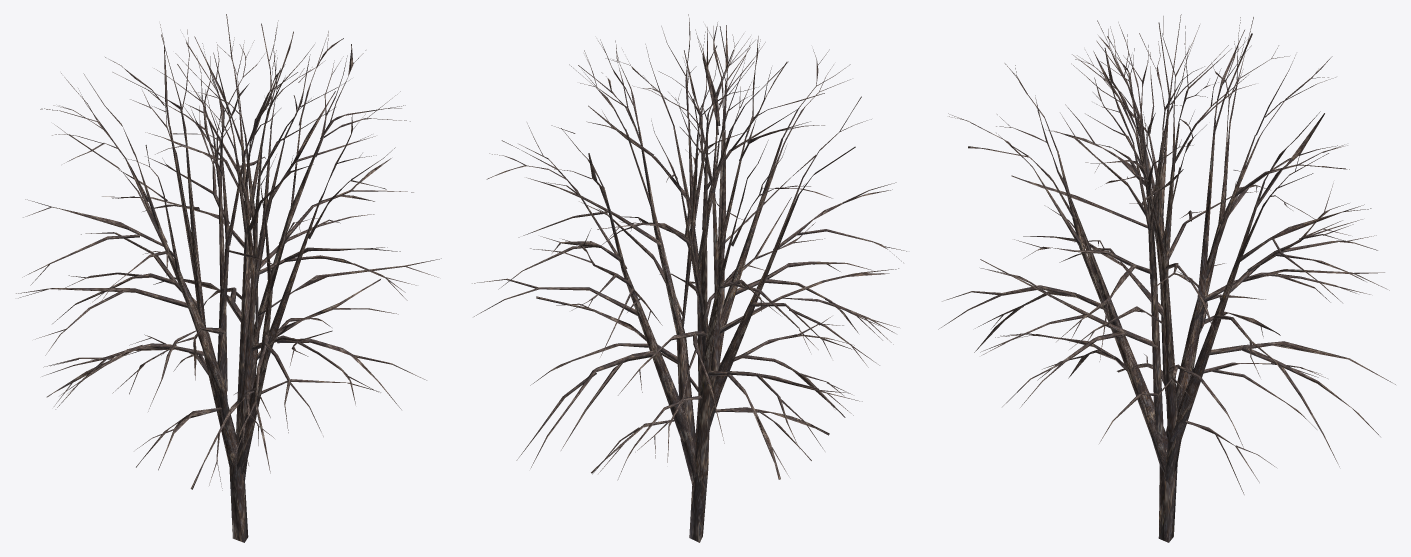
The model's file is tree4.fbx.
3 renders of one model, left to right at view 1: azimuth 30°, elevation 25°; view 2: azimuth 150°, elevation 25°; view 3: azimuth 270°, elevation 25°, orthographic.
Visible parts, largest first — view 1: tree4_LOD0; view 2: tree4_LOD0; view 3: tree4_LOD0.
Part boxes in pixels (x1=…): tree4_LOD0: x1=16, y1=14, x2=441, y2=542; tree4_LOD0: x1=472, y1=14, x2=906, y2=542; tree4_LOD0: x1=938, y1=14, x2=1395, y2=542.
Size of what is drawn, in the model's own units: 888 by 1133 by 939.
